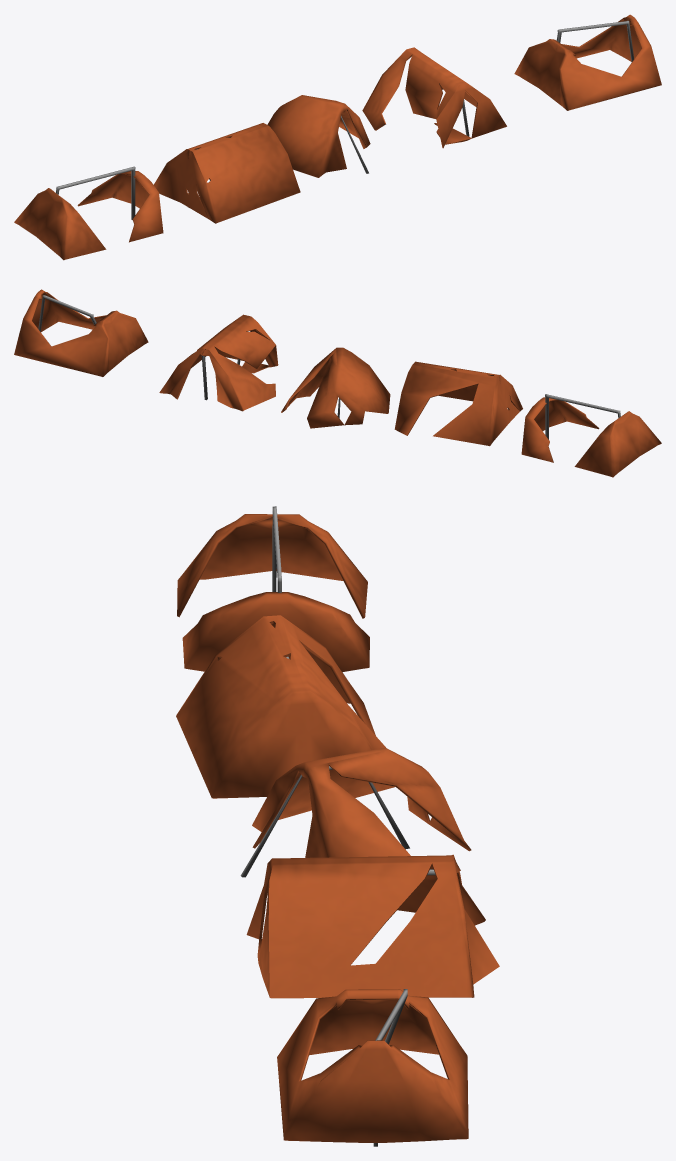
Rendered from DamagedTents_Orange.obj.
3 renders of one model, top to bottom at view 1: azimuth 30°, elevation 25°; view 2: azimuth 150°, elevation 25°; view 3: azimuth 270°, elevation 25°, orthographic. The views are drawn at different scales.
Parts seen in each view (by area): view 1: DamagedTent_Base.003_Material, DamagedTent_Base_Material, DamagedTent_Base.001_Material, DamagedTent_Base.004_Material, DamagedTent_Base.002_Material, Tent_SupportBar.009_Material.159, Tent_SupportBar.005_Material.159; view 2: DamagedTent_Base.003_Material, DamagedTent_Base_Material, DamagedTent_Base.001_Material, DamagedTent_Base.004_Material, DamagedTent_Base.002_Material, Tent_SupportBar.009_Material.159, Tent_SupportBar.005_Material.159; view 3: DamagedTent_Base.001_Material, DamagedTent_Base_Material, DamagedTent_Base.003_Material, DamagedTent_Base.004_Material, DamagedTent_Base.002_Material, Tent_SupportBar.007_Material.159.
Part boxes in pixels (x1,y1,x2,y2): DamagedTent_Base.003_Material: (154,123,300,223); DamagedTent_Base_Material: (514,14,661,110); DamagedTent_Base.001_Material: (362,47,506,148); DamagedTent_Base.004_Material: (14,171,163,260); DamagedTent_Base.002_Material: (267,95,370,177); Tent_SupportBar.009_Material.159: (56,166,135,219); Tent_SupportBar.005_Material.159: (556,20,633,62); DamagedTent_Base.003_Material: (394,361,522,446); DamagedTent_Base_Material: (14,289,148,376); DamagedTent_Base.001_Material: (159,314,278,411); DamagedTent_Base.004_Material: (521,397,661,477); DamagedTent_Base.002_Material: (281,347,390,428); Tent_SupportBar.009_Material.159: (545,394,620,439); Tent_SupportBar.005_Material.159: (38,295,96,331); DamagedTent_Base.001_Material: (246,854,499,998); DamagedTent_Base_Material: (277,989,468,1142); DamagedTent_Base.003_Material: (176,615,385,798); DamagedTent_Base.004_Material: (177,514,369,671); DamagedTent_Base.002_Material: (252,747,471,857); Tent_SupportBar.007_Material.159: (240,766,409,877).
Bounding box in the file's own units: 14.53 × 1.29 × 3.5.
